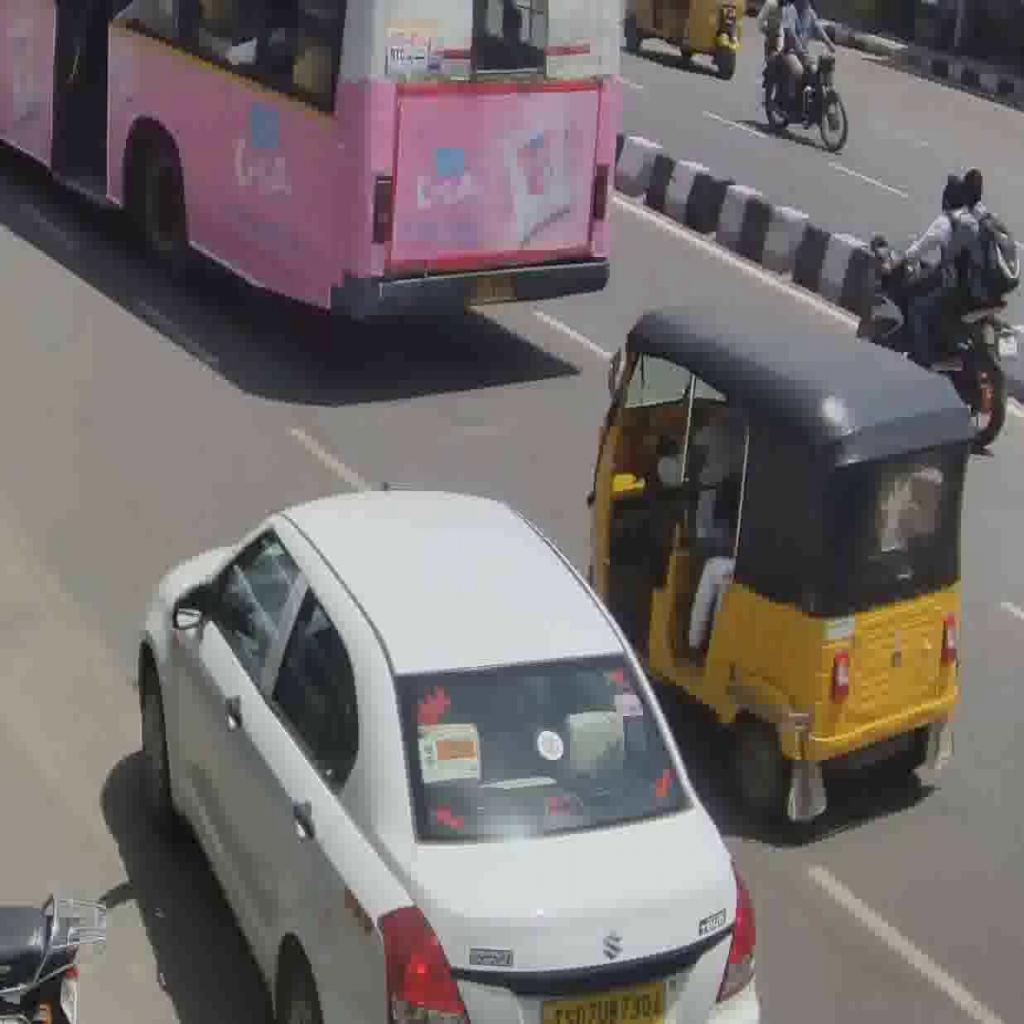helmet: (856, 231, 1020, 455)
